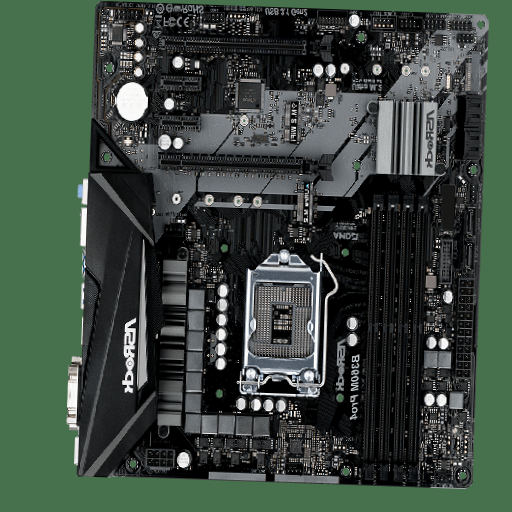CPU: (239, 250, 326, 397)
GPU: (165, 32, 338, 63), (157, 153, 335, 180)
MOTHERBOARD: (91, 4, 490, 486)
RAM: (361, 195, 433, 482)
SSD: (295, 179, 317, 227), (285, 101, 304, 143)
